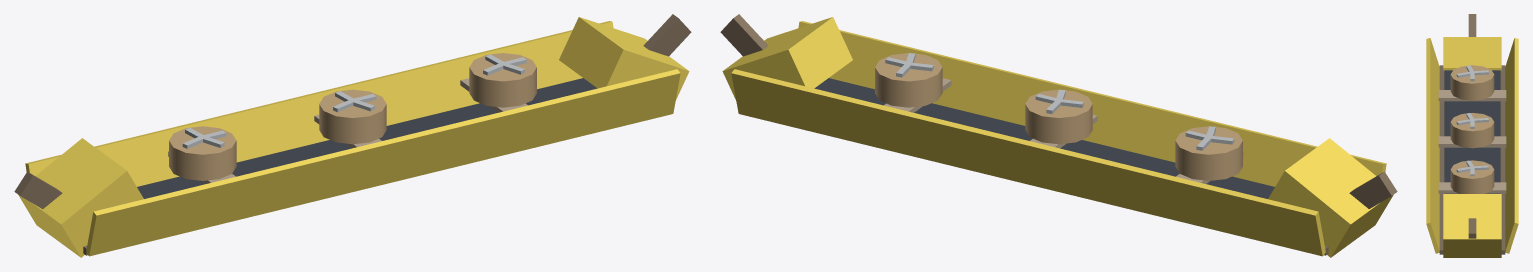
Rendered from canoe_market.glb.
3 views of the same model, side by side, from view 1: azimuth 30°, elevation 25°; view 2: azimuth 150°, elevation 25°; view 3: azimuth 270°, elevation 25° (orthographic). The views are drawn at different scales.
Visible parts, largest first — view 1: MK_canoe_market; view 2: MK_canoe_market; view 3: MK_canoe_market.
Part boxes in pixels (<box>): MK_canoe_market: <box>14,14,691,257</box>; MK_canoe_market: <box>720,14,1397,257</box>; MK_canoe_market: <box>1426,14,1518,257</box>.
Bounding box in the file's own units: 8.05 × 0.8703 × 1.48.
